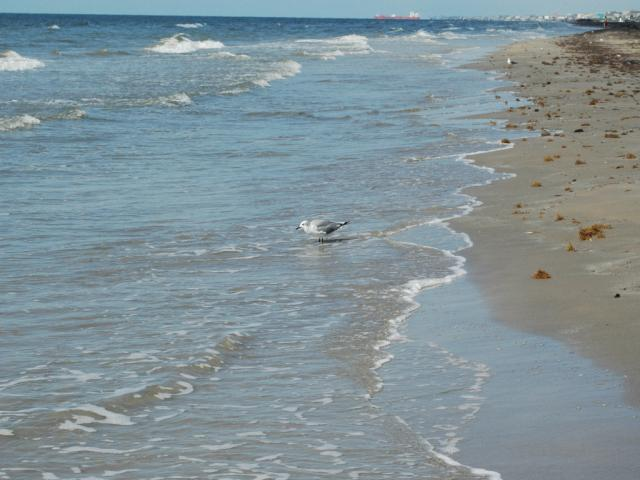Bird: (293, 218, 344, 246), (508, 58, 516, 65)
